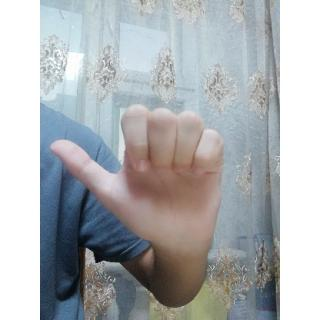DAD: (45, 98, 233, 266)
